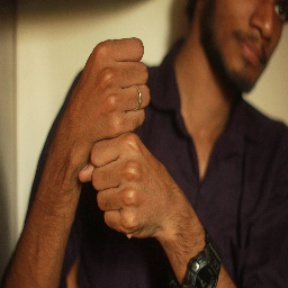G: (58, 31, 172, 235)
